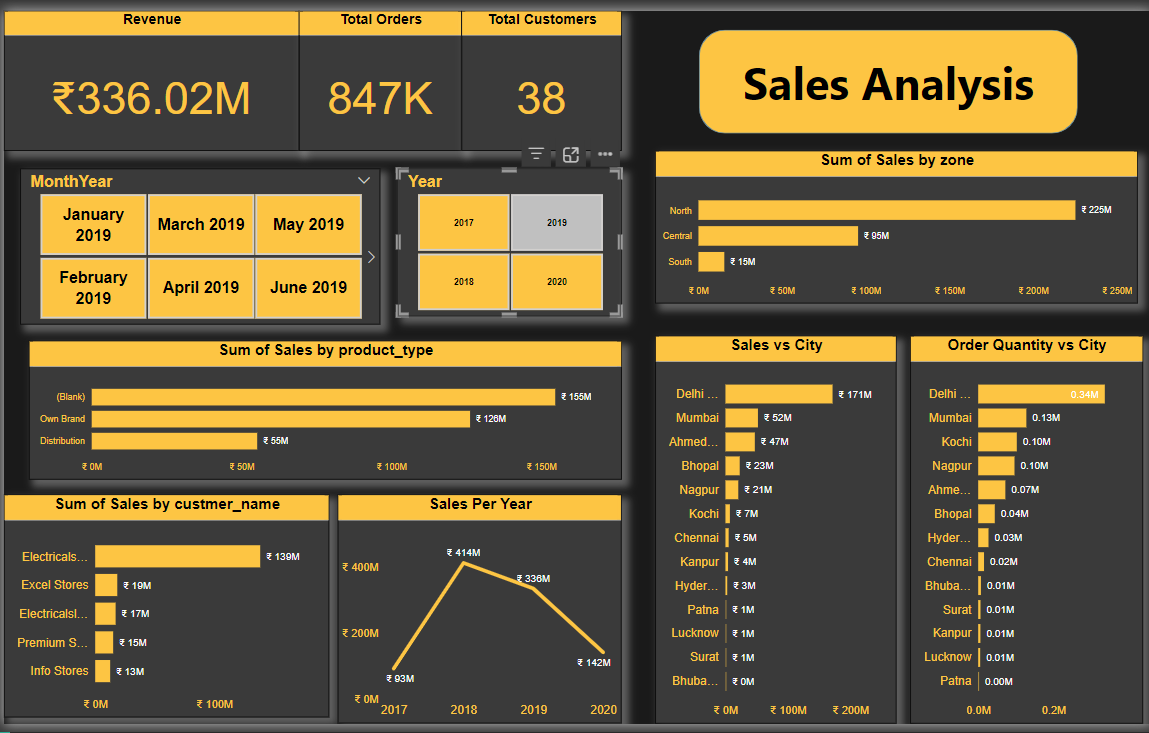

This screenshot's page, from the dashboard's own definition file:
{"tool":"powerbi","page":{"name":"Page 1","canvas":[1530,950],"ordinal":0},"visuals":[{"type":"card","title":"Revenue","fields":{"Values":["sales customers.Total_Revenue"]},"box":[0,0,393.3,186.7],"z":0},{"type":"card","title":"Total Orders ","fields":{"Values":["sales customers.Total_Quantity"]},"box":[393.3,0,216.7,186.7],"z":1000},{"type":"card","title":"Total Customers ","fields":{"Values":["sales customers.Total_Customers"]},"box":[610,0,213.3,186.7],"z":2000},{"type":"slicer","fields":{"Values":["sales date.Year"]},"box":[525,210,298.3,196.7],"z":3000},{"type":"slicer","fields":{"Values":["sales date.MonthYear"]},"box":[21.7,210,480,208.3],"z":4000},{"type":"barChart","title":"Sales vs City","fields":{"Category":["sales markets.markets_name"],"Y":["Sum(sales transactions.Normalised_currency)"]},"box":[868.3,433.3,321.7,516.7],"z":5000},{"type":"barChart","fields":{"Category":["sales customers.custmer_name"],"Y":["Sum(sales transactions.Sales)"]},"box":[0,645,433.3,296.7],"z":6000},{"type":"barChart","fields":{"Category":["sales products.product_type"],"Y":["Sum(sales transactions.Sales)"]},"box":[33.3,440,790,185],"z":7000},{"type":"barChart","fields":{"Category":["sales markets.zone"],"Y":["Sum(sales transactions.Sales)"]},"box":[868.3,186.7,643.3,203.3],"z":8000},{"type":"barChart","title":"Order Quantity vs City","fields":{"Category":["sales markets.markets_name"],"Y":["Sum(sales transactions.sales_qty)"]},"box":[1208.3,433.3,310,516.7],"z":9000},{"type":"lineChart","title":"Sales Per Year ","fields":{"Y":["Sum(sales transactions.Sales)"],"Category":["sales date.date.Variation.Date Hierarchy.Year","sales date.date.Variation.Date Hierarchy.Quarter","sales date.date.Variation.Date Hierarchy.Month","sales date.date.Variation.Date Hierarchy.Day"]},"box":[445,645,378.3,305],"z":10000},{"type":"shape","box":[926.7,25,505,138.3],"z":10001}]}

Visuals, with their boxes in screenshot pixels (x1, y1, x2, y2), scaled from the page's 1530x950 canvas onto the 1149x733 screenshot:
"Revenue" card: box=[0, 0, 295, 144]
"Total Orders " card: box=[295, 0, 458, 144]
"Total Customers " card: box=[458, 0, 618, 144]
slicer - sales date.Year: box=[394, 162, 618, 314]
slicer - sales date.MonthYear: box=[16, 162, 377, 323]
"Sales vs City" barChart: box=[652, 334, 894, 732]
barChart - sales customers.custmer_name x Sum(sales transactions.Sales): box=[0, 498, 325, 727]
barChart - sales products.product_type x Sum(sales transactions.Sales): box=[25, 339, 618, 482]
barChart - sales markets.zone x Sum(sales transactions.Sales): box=[652, 144, 1135, 301]
"Order Quantity vs City" barChart: box=[907, 334, 1140, 732]
"Sales Per Year " lineChart: box=[334, 498, 618, 732]
shape: box=[696, 19, 1075, 126]
